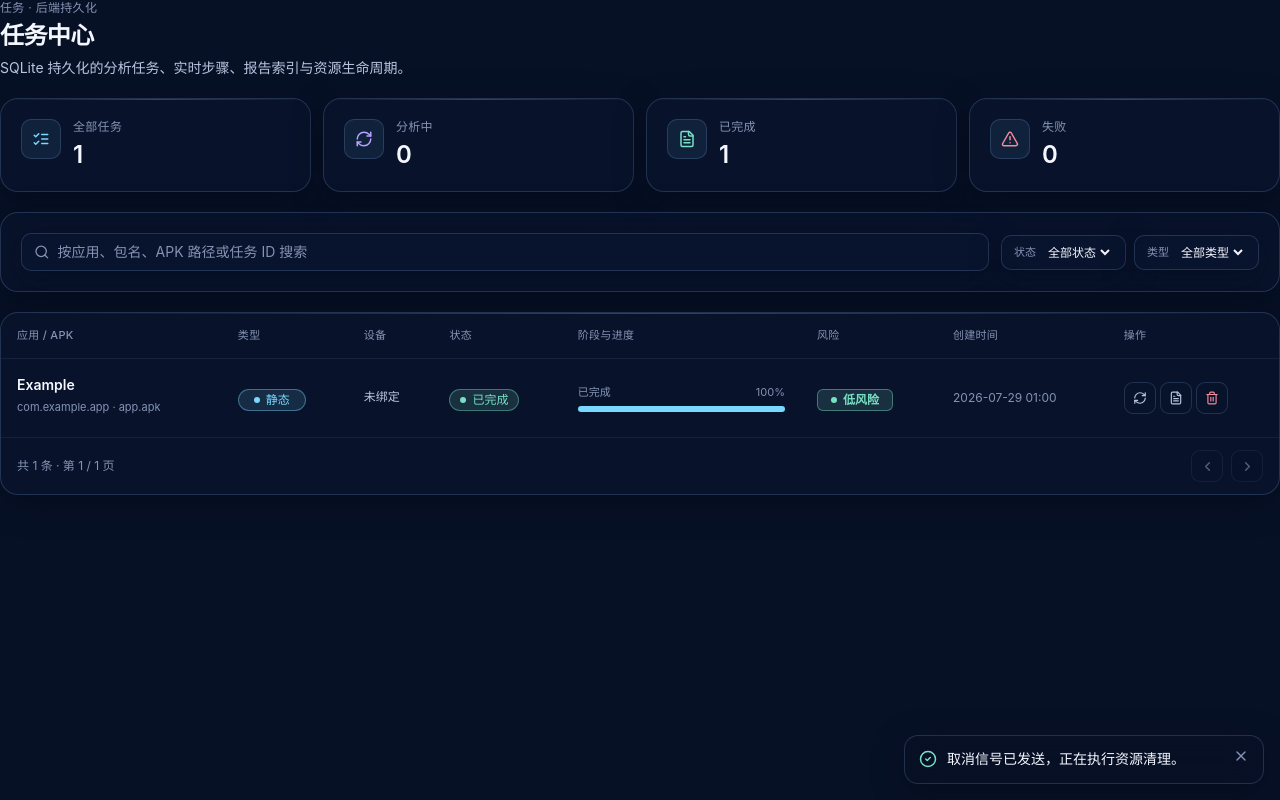
Test case: Tasks — 后端持久化任务中心 › 终态任务需确认后删除 SQLite 记录
Click the button named "删除任务" at (1212, 398), box [1196,382,1228,414]
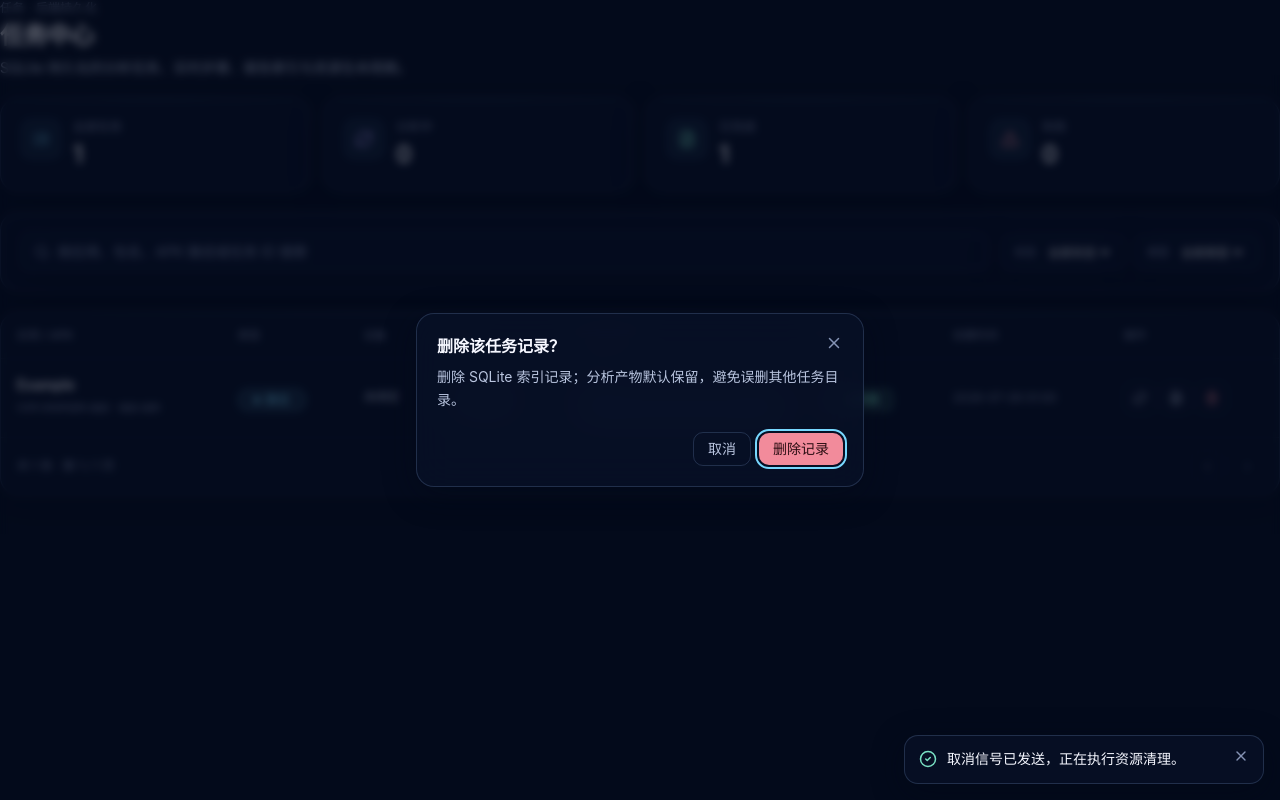
Check: the heading "删除该任务记录？" is shown, box [437,334,565,358]
Click the button "删除记录" at (801, 449), box [759,433,843,465]
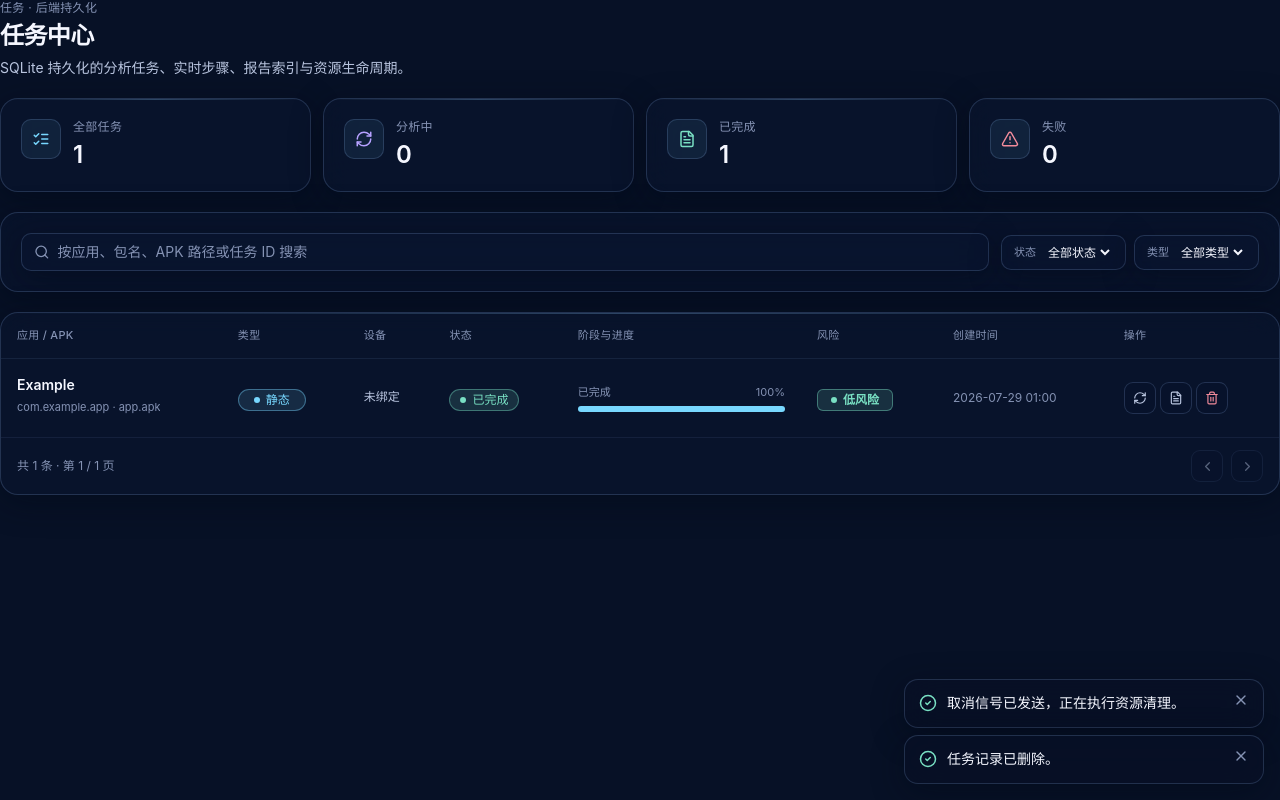
Check: the text "任务记录已删除。" is shown, box [947,750,1059,767]
